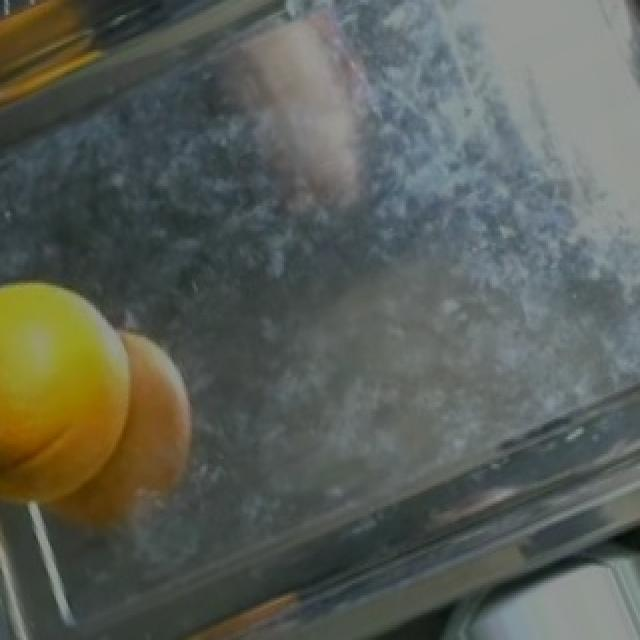Fruit: (2, 256, 152, 568)
